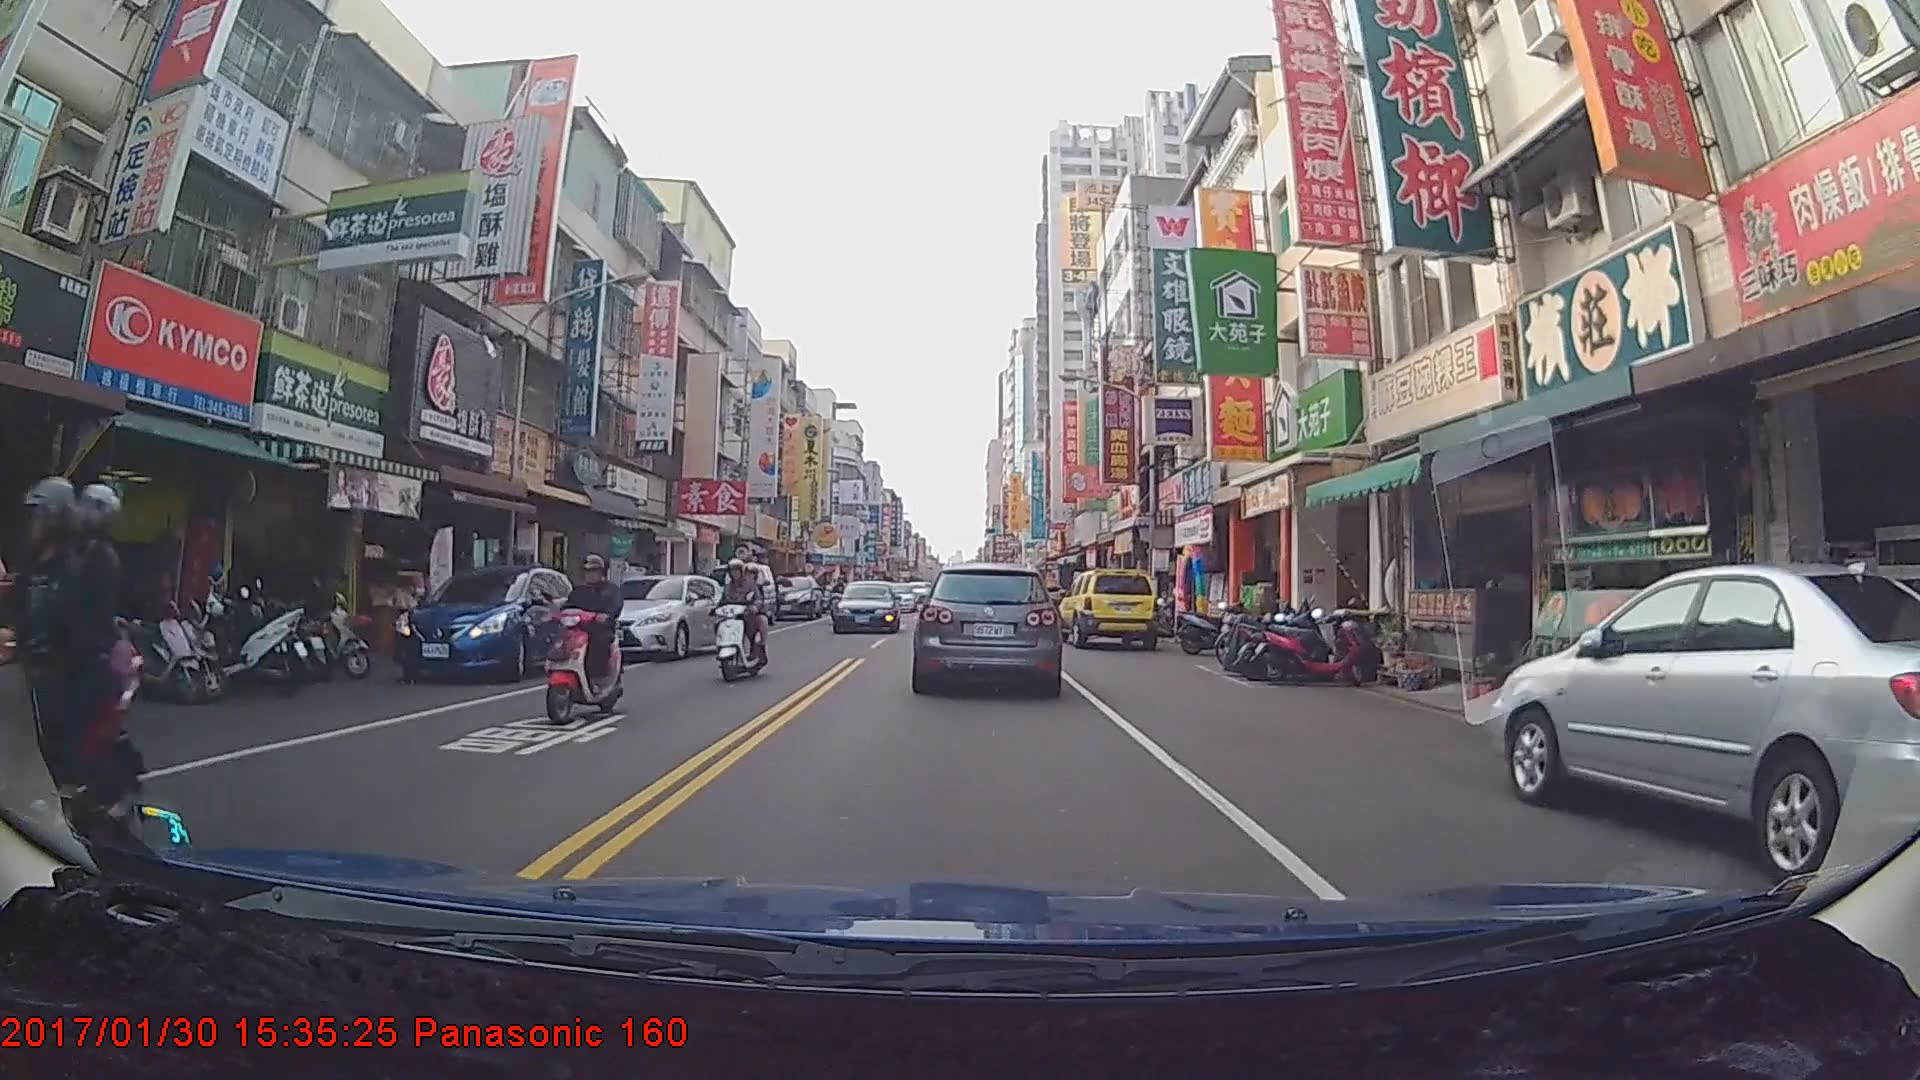rider: (0, 481, 158, 861), (537, 553, 632, 738), (712, 561, 781, 685)
vehicle: (1494, 565, 1920, 882), (389, 564, 592, 684), (913, 562, 1059, 692), (582, 579, 736, 666), (1057, 566, 1161, 650), (705, 560, 774, 627), (830, 582, 902, 637), (772, 574, 824, 622), (882, 581, 917, 614)
